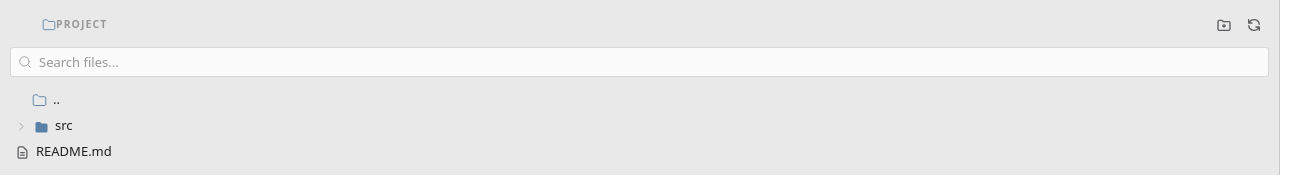
Test: FileExplorer › should show all viewable files when search is cleared
This screenshot has width=1292, height=192.
Type "main" into the search field.
click(640, 62); type("main")  # box left=10, top=47, right=1269, bottom=77
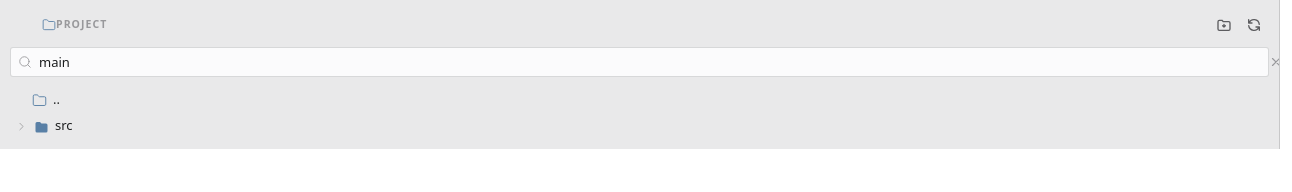
Clear the search field at (640, 62), box left=10, top=47, right=1269, bottom=77
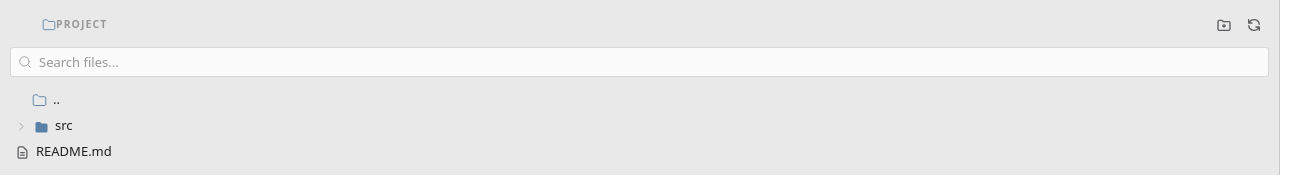
Expected: the text "src" is shown, left=55, top=116, right=73, bottom=136
Now the text "README.md" is shown, box left=36, top=142, right=112, bottom=162
